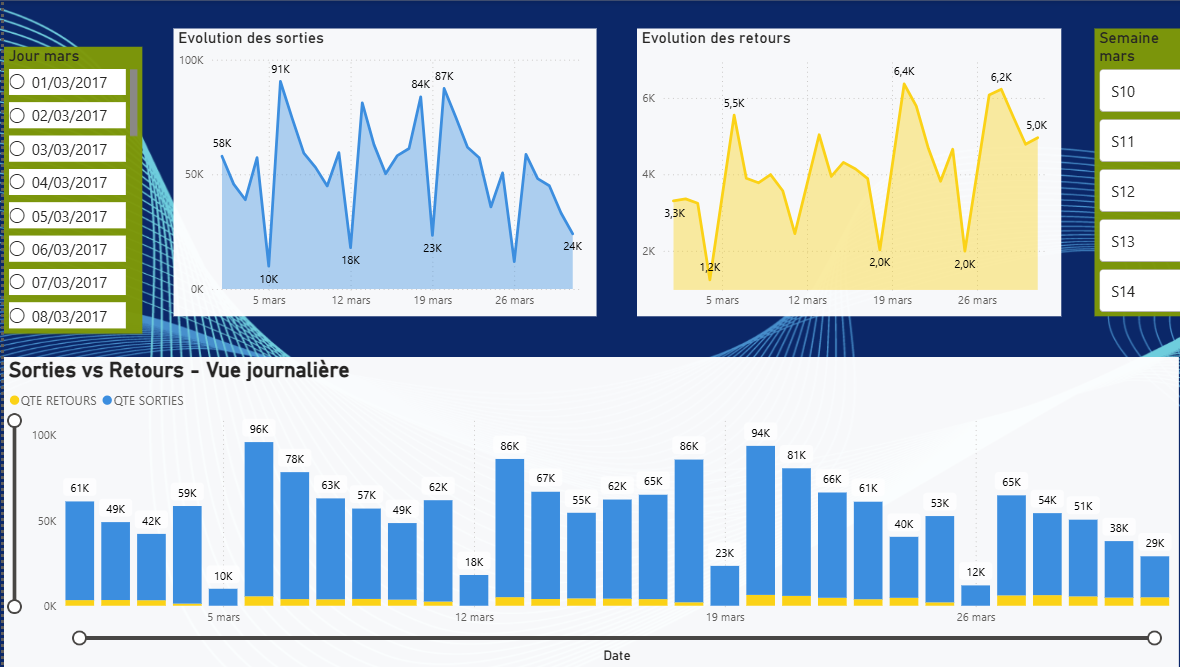

The page's visual inventory and layout, read from the dashboard file:
{"tool":"powerbi","page":{"name":"Vue globale des flux","canvas":[1280,720],"ordinal":2},"visuals":[{"type":"lineStackedColumnComboChart","title":"Sorties vs Retours - Vue journalière","fields":{"Category":["Calendrier.Date"],"Y":["Sum(retours_30_jours_data.QTE)","Sum(Prel_30_jours_data.QTE)"]},"box":[0,385.4,1269.5,335.2],"z":0},{"type":"listSlicer","title":"Jour mars","fields":{"Values":["Calendrier.Date.Variation.Hiérarchie de dates.Jour"]},"box":[0,49.8,149.5,310.2],"z":1000},{"type":"advancedSlicerVisual","fields":{"Values":["Calendrier.Semaine mars"]},"box":[1177.2,30.8,103.6,310.9],"z":2000},{"type":"areaChart","title":"Evolution des sorties","fields":{"Category":["Prel_30_jours_data.Date_reelle"],"Y":["Sum(Prel_30_jours_data.QTE SORTIES)"]},"box":[183,30.8,456.6,310.9],"z":3000},{"type":"areaChart","title":"Evolution des retours","fields":{"Category":["retours_30_jours_data.Date_reelle"],"Y":["Sum(retours_30_jours_data.QTE RETOURS)"]},"box":[683.3,30.8,458.2,310.9],"z":4000}]}

Visuals, with their boxes in screenshot pixels (x1, y1, x2, y2), scaled from the page's 1280x720 canvas onto the 1180x667 screenshot:
"Sorties vs Retours - Vue journalière" lineStackedColumnComboChart: detection(0, 357, 1170, 666)
"Jour mars" listSlicer: detection(0, 46, 138, 334)
advancedSlicerVisual - Calendrier.Semaine mars: detection(1085, 29, 1179, 317)
"Evolution des sorties" areaChart: detection(169, 29, 590, 317)
"Evolution des retours" areaChart: detection(630, 29, 1052, 317)
